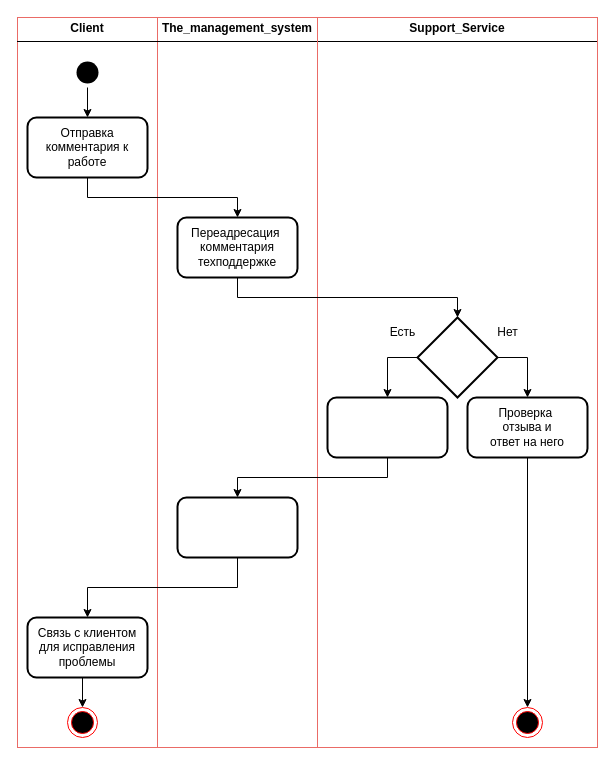
The diagram is 615 pixels wide and 765 high, and some of its shapes have lost their labels. The centre of each missing label's shape, as x and y in pixels:
"Наличие проблем" goes at (x=457, y=357).
"Подтверждение проблемы" goes at (x=237, y=527).
"Уточнение проблемы" goes at (x=387, y=427).
